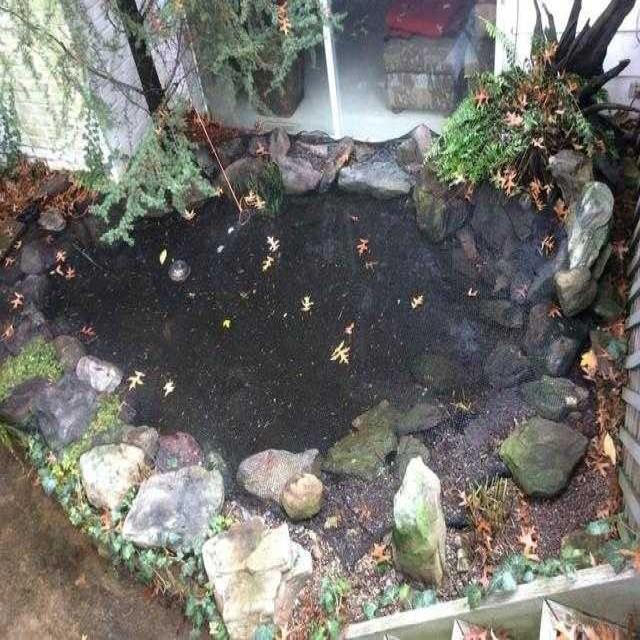Ponds: (1, 127, 593, 640)
